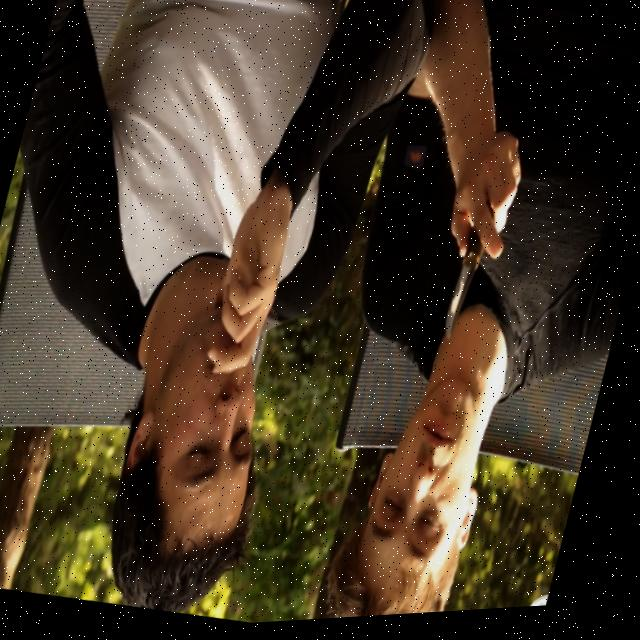knife: (437, 243, 492, 355)
